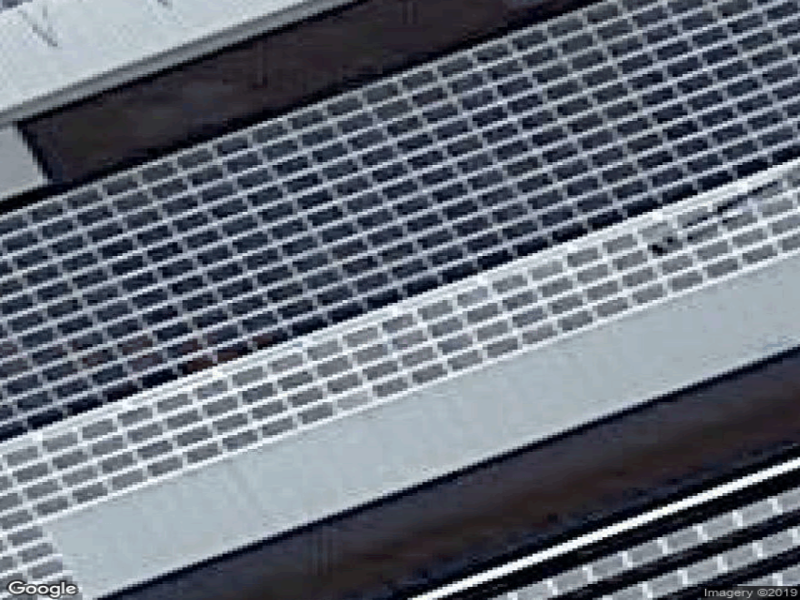pv: (3, 1, 798, 600)
